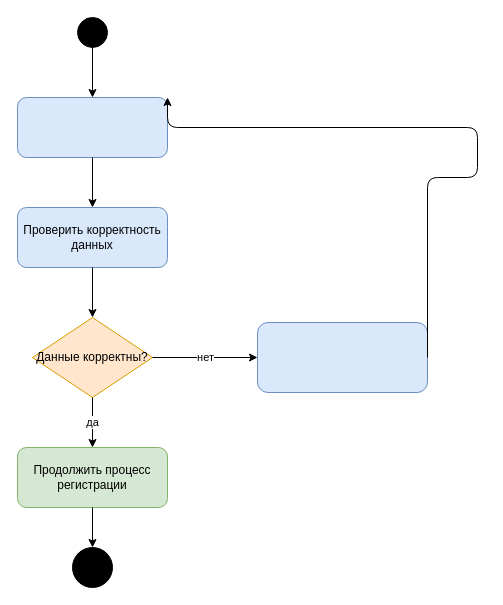
Image size: 503x605. Some labels were removed from this diagram. Each missing label, with the box of its shape:
Ввести данные в систему: (16, 96, 168, 158)
Сообщить пациенту о необходимости исправить данные: (256, 322, 428, 392)
